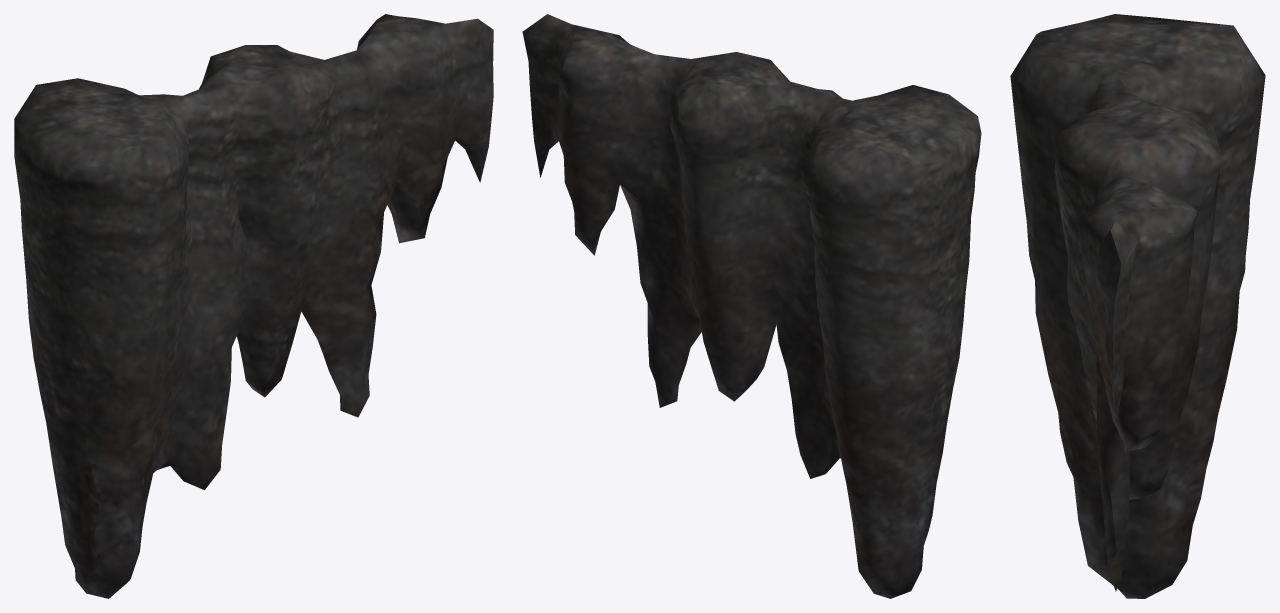
File: CaveRockPack1_High5.fbx
3 views of the same model, side by side, from view 1: azimuth 30°, elevation 25°; view 2: azimuth 150°, elevation 25°; view 3: azimuth 270°, elevation 25° (orthographic). The views are drawn at different scales.
Parts seen in each view (by area): view 1: CaveRockPack1_High5; view 2: CaveRockPack1_High5; view 3: CaveRockPack1_High5.
Part boxes in pixels (x1,y1,x2,y2): CaveRockPack1_High5: (14,14,493,598); CaveRockPack1_High5: (522,14,981,598); CaveRockPack1_High5: (1010,14,1265,598).
Bounding box in the file's own units: 1766 × 1844 × 747.
